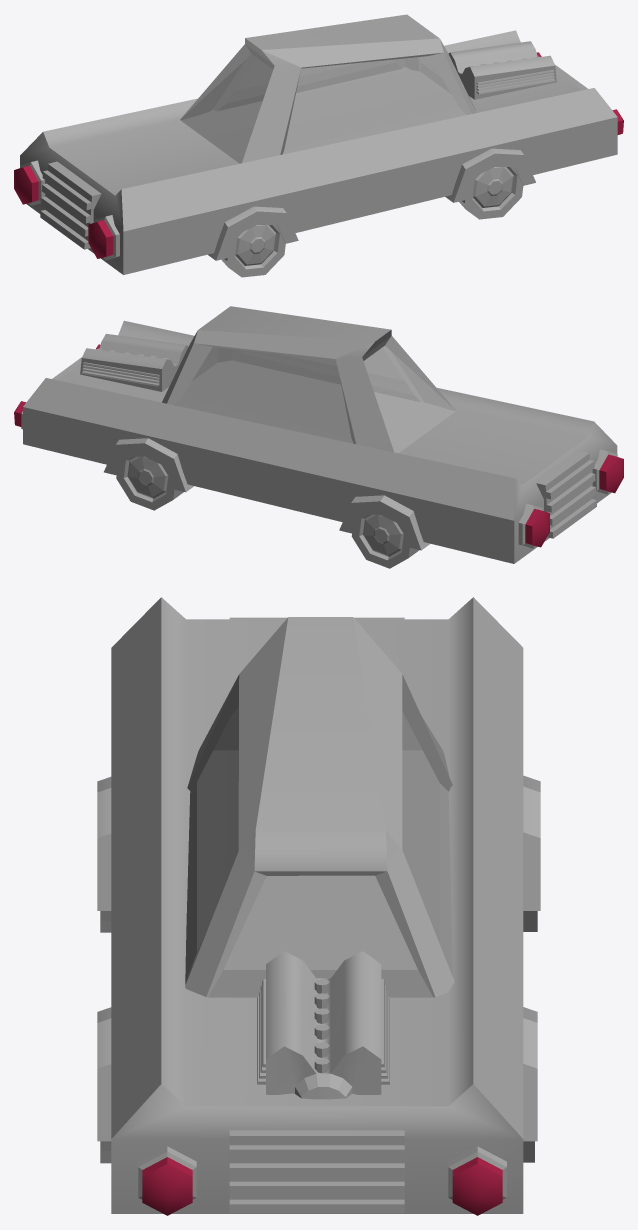
File: FrontyardCar.fbx
3 views of the same model, one above another, from view 1: azimuth 30°, elevation 25°; view 2: azimuth 150°, elevation 25°; view 3: azimuth 270°, elevation 25° (orthographic). The views are drawn at different scales.
Parts seen in each view (by area): view 1: pCylinder54; view 2: pCylinder54; view 3: pCylinder54.
Part boxes in pixels (x1,y1,x2,y2): pCylinder54: (14, 14, 623, 277); pCylinder54: (14, 306, 623, 568); pCylinder54: (97, 597, 540, 1215).
Bounding box in the file's own units: 2.71 × 0.8706 × 0.9779.
